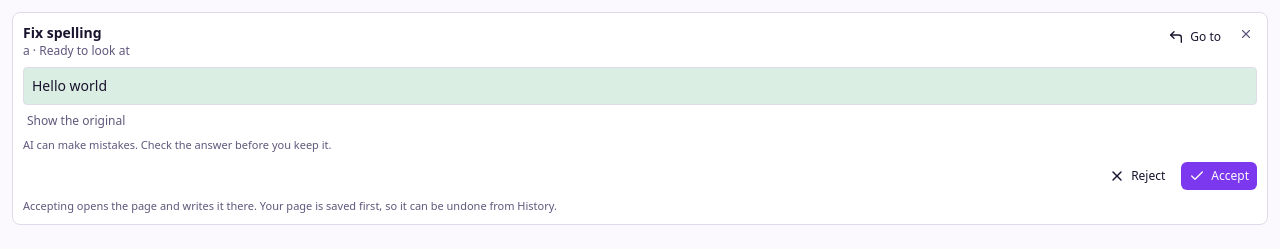
Test: JobsTab › shows only the new text, the original on request, and accepts through the store
Later steps or results of the test are not shown.
Check: the text "Hello world" is shown, box [24,68,1256,104]
Step 1. Click the button "Show the original" → (76, 121), box [23,113,129,129]
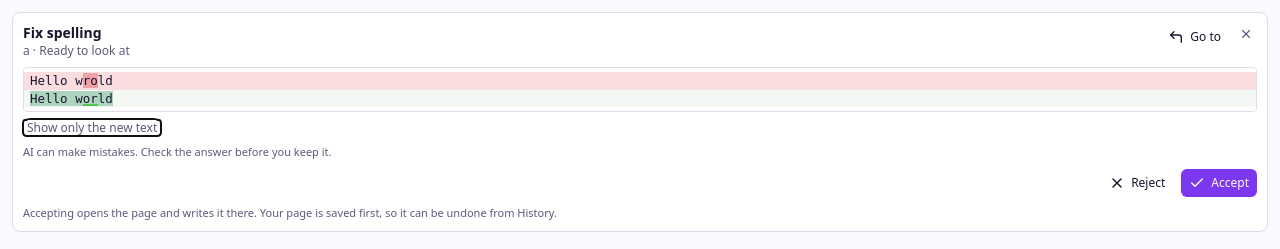
Check: the button "Show only the new text" is shown, box [23,120,161,136]
